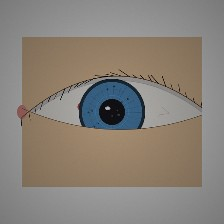hemorrhage_spot: (69, 83, 128, 130)
